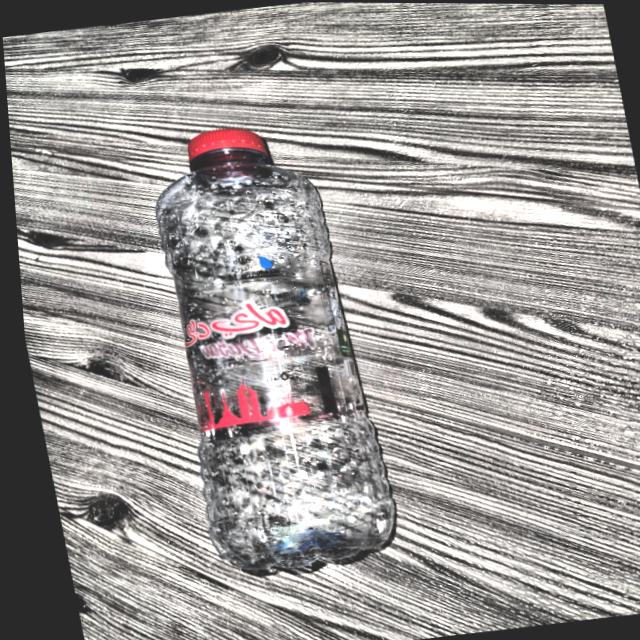Bottles: (90, 95, 457, 604)
